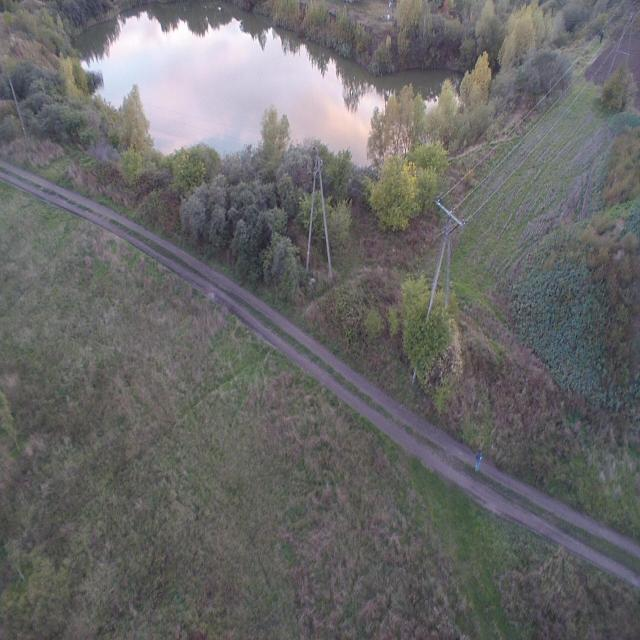p3rson: (474, 447, 483, 473), (600, 32, 604, 44)
